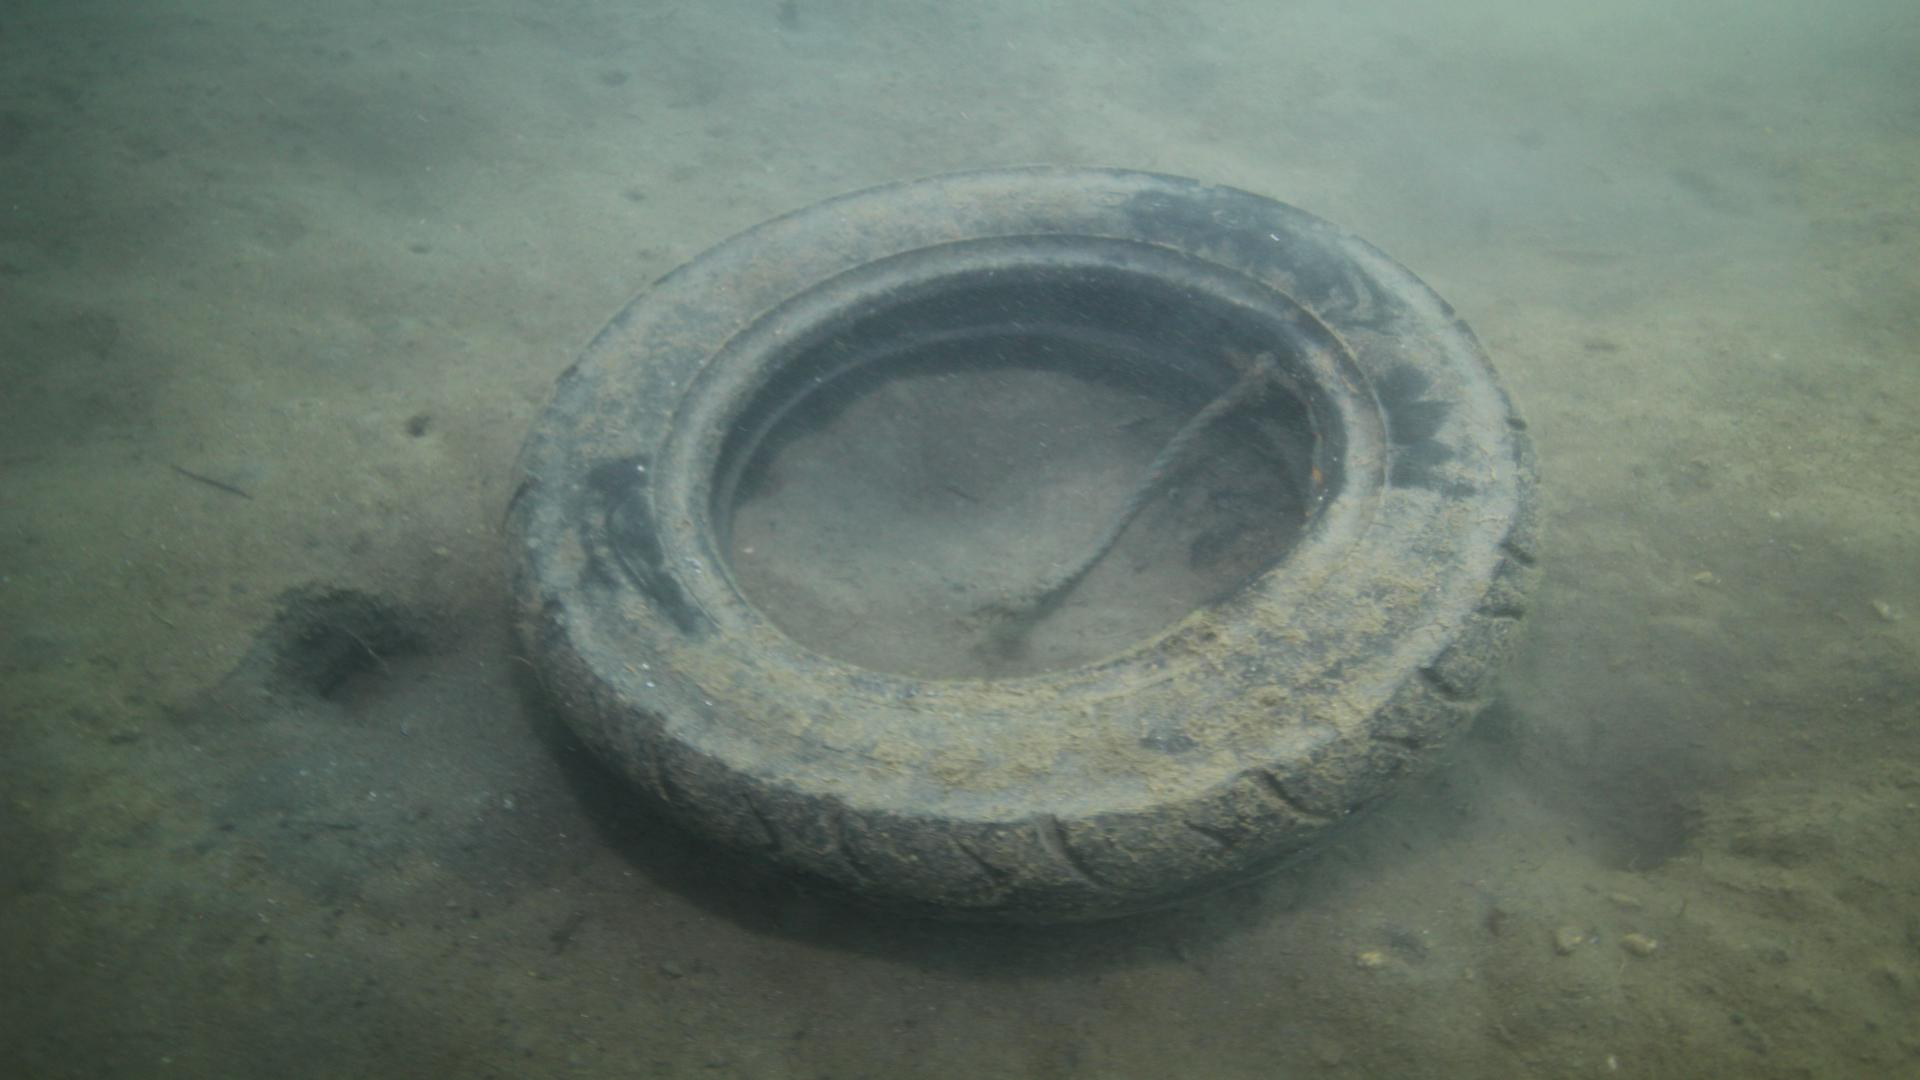rope: (1010, 344, 1280, 621)
tire: (498, 162, 1545, 924)
